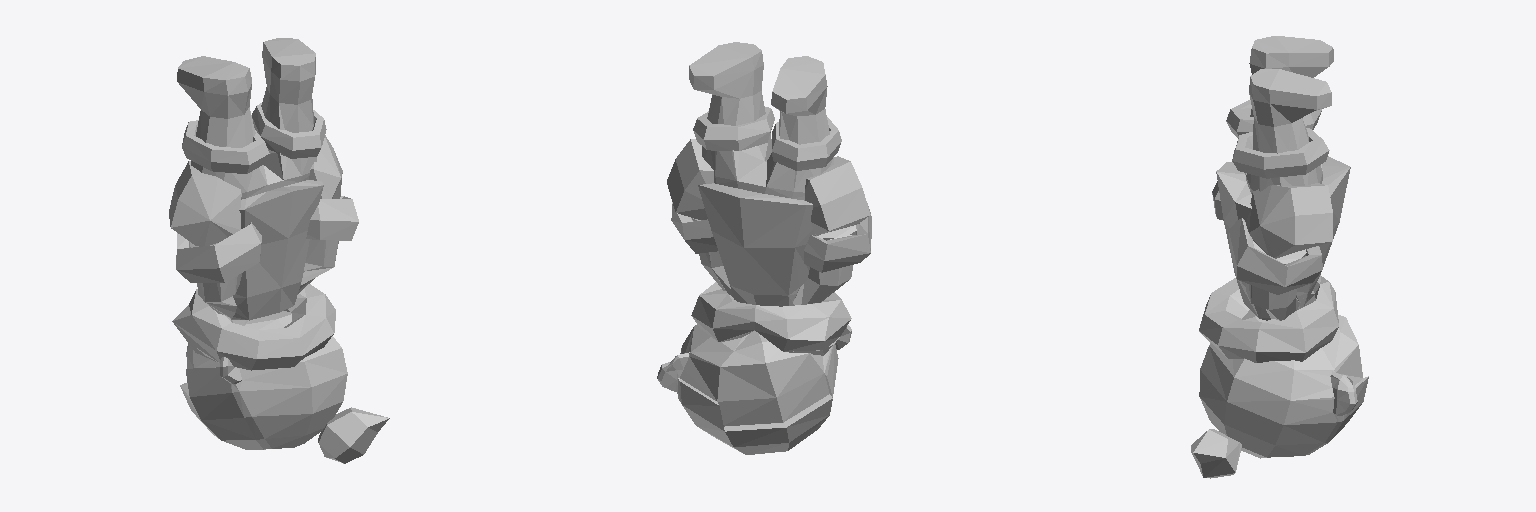
File: eikastanding_000185.obj
The picture shows the model from 3 angles: view 1: azimuth 30°, elevation 25°; view 2: azimuth 150°, elevation 25°; view 3: azimuth 270°, elevation 25°; orthographic projection.
Parts seen in each view (by area): view 1: Cylinder; view 2: Cylinder; view 3: Cylinder.
Boxes of the visible parts, <box> form: Cylinder: <box>169,38,389,463</box>; Cylinder: <box>657,42,871,454</box>; Cylinder: <box>1191,36,1368,478</box>.
Bounding box in the file's own units: 26 × 51.72 × 21.33.